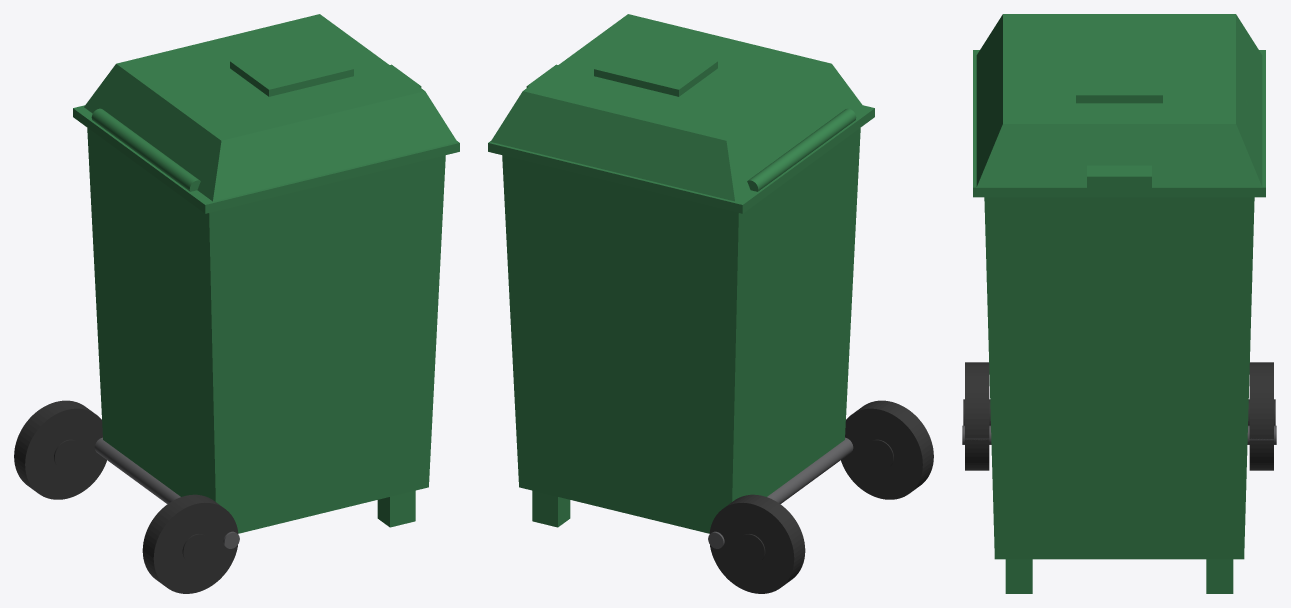
The model's file is appearance.glb.
3 renders of one model, left to right at view 1: azimuth 30°, elevation 25°; view 2: azimuth 150°, elevation 25°; view 3: azimuth 270°, elevation 25°, orthographic. The views are drawn at different scales.
Parts seen in each view (by area): view 1: visual_0_0, visual_1_0, visual_3_0, visual_2_0; view 2: visual_0_0, visual_1_0, visual_2_0, visual_3_0; view 3: visual_0_0, visual_1_0, visual_3_0, visual_2_0.
Part boxes in pixels (left/top/right/bottom): visual_0_0: left=73, top=105, right=459, bottom=548; visual_1_0: left=84, top=14, right=457, bottom=201; visual_3_0: left=142, top=494, right=238, bottom=593; visual_2_0: left=14, top=400, right=106, bottom=499; visual_0_0: left=488, top=105, right=874, bottom=548; visual_1_0: left=490, top=14, right=863, bottom=201; visual_2_0: left=709, top=494, right=805, bottom=593; visual_3_0: left=841, top=400, right=933, bottom=499; visual_0_0: left=962, top=50, right=1276, bottom=593; visual_1_0: left=976, top=14, right=1262, bottom=191; visual_3_0: left=963, top=362, right=990, bottom=470; visual_2_0: left=1248, top=362, right=1275, bottom=470.
Size of the model in its own units: 0.76 by 0.982 by 0.58.
